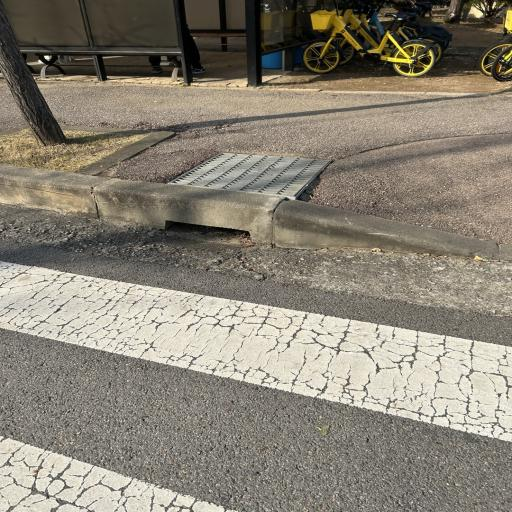drain: (169, 153, 330, 199)
